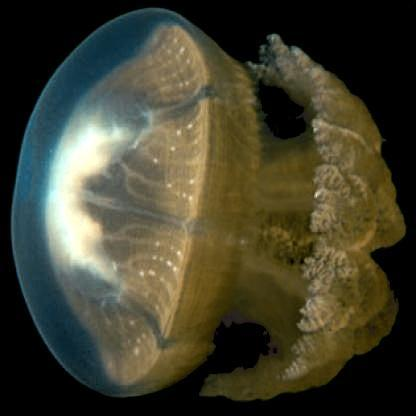Handstand: (12, 8, 406, 401)
